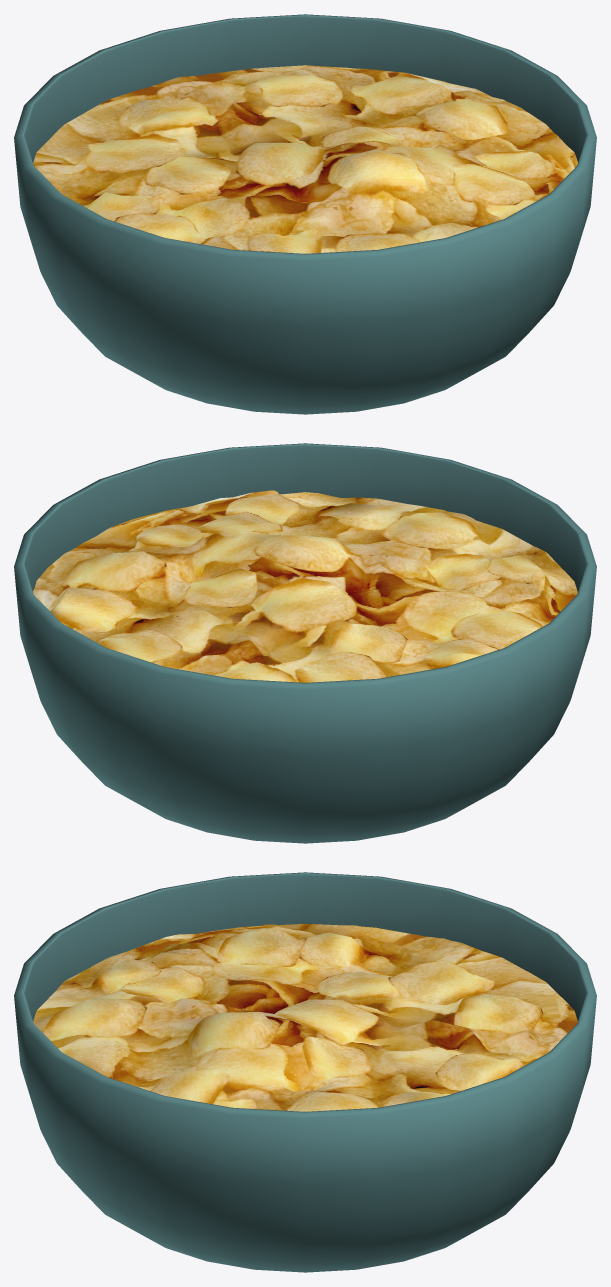
The model's file is snack_01.fbx.
3 views of the same model, one above another, from view 1: azimuth 30°, elevation 25°; view 2: azimuth 150°, elevation 25°; view 3: azimuth 270°, elevation 25° (orthographic).
Parts seen in each view (by area): view 1: snack_01; view 2: snack_01; view 3: snack_01.
Boxes of the visible parts, left/top/right/bottom form: snack_01: left=14, top=14, right=596, bottom=414; snack_01: left=14, top=443, right=596, bottom=843; snack_01: left=14, top=872, right=596, bottom=1272.
Size of the model in its own units: 73.79 by 30.14 by 73.79.
